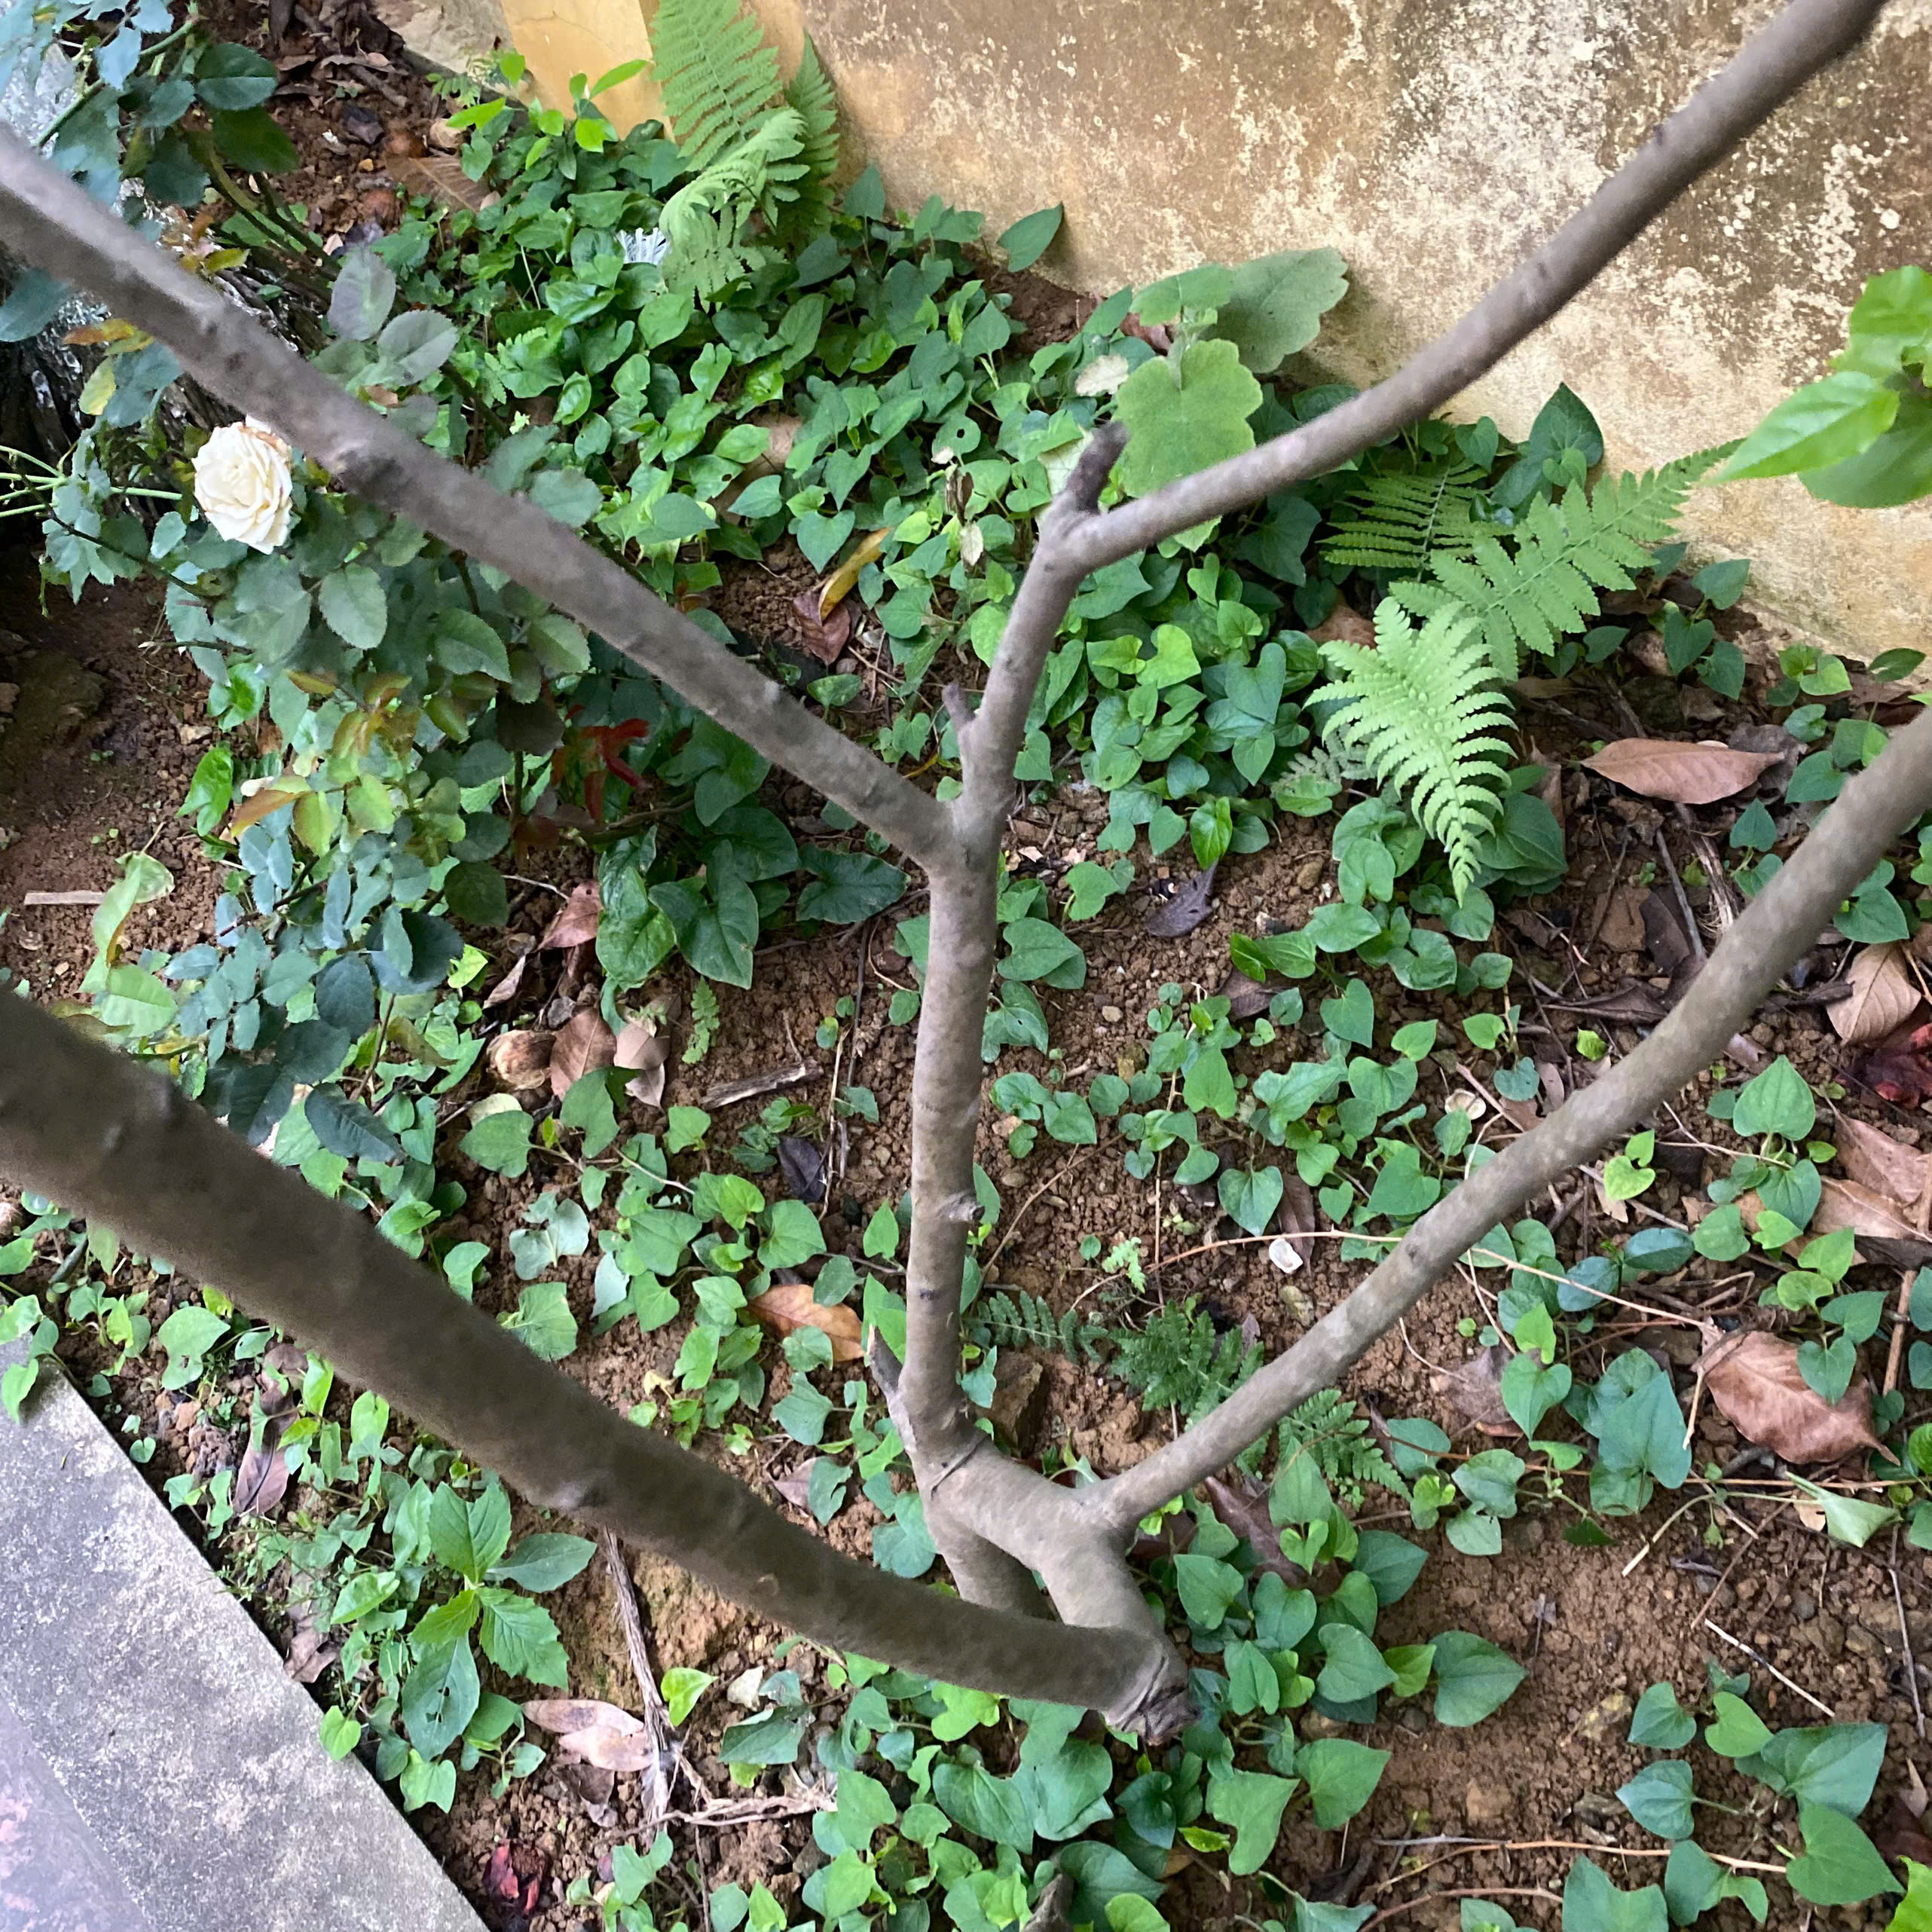hoa_hai_duong: (111, 294, 1292, 1771)
